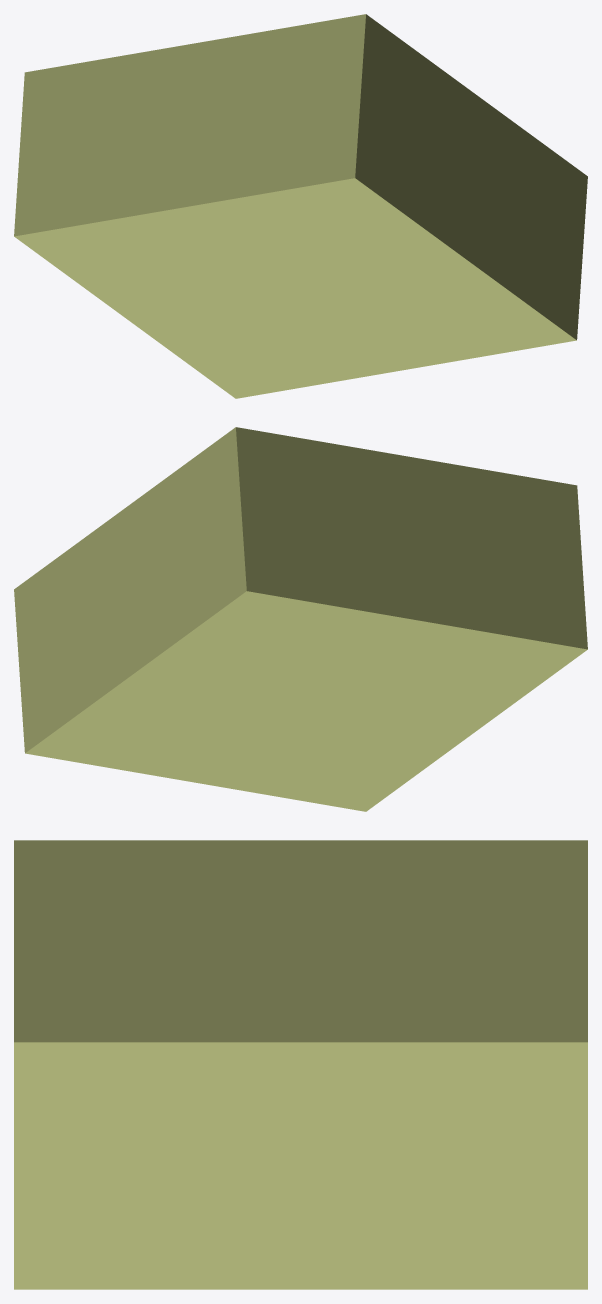
3 renders of one model, top to bottom at view 1: azimuth 30°, elevation 25°; view 2: azimuth 150°, elevation 25°; view 3: azimuth 270°, elevation 25°, orthographic. The views are drawn at different scales.
Parts seen in each view (by area): view 1: 0_1_3_2_1_2_1_1_1_0_0; view 2: 0_1_3_2_1_2_1_1_1_0_0; view 3: 0_1_3_2_1_2_1_1_1_0_0.
Boxes of the visible parts, x1=… form: 0_1_3_2_1_2_1_1_1_0_0: x1=14, y1=14, x2=587, y2=398; 0_1_3_2_1_2_1_1_1_0_0: x1=14, y1=427, x2=587, y2=811; 0_1_3_2_1_2_1_1_1_0_0: x1=14, y1=840, x2=587, y2=1289.
Bounding box in the file's own units: 5.5 × 2.78 × 6.
